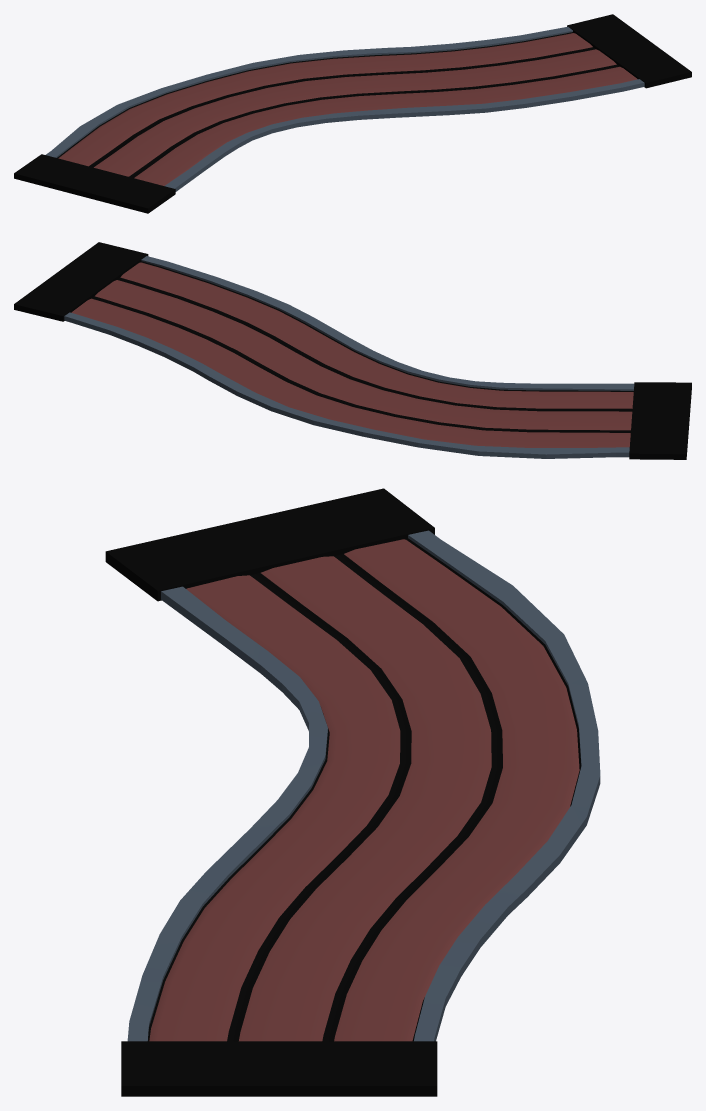
The model's file is Medium_Bridge_GEO.fbx.
The picture shows the model from 3 angles, top to bottom: view 1: azimuth 30°, elevation 25°; view 2: azimuth 150°, elevation 25°; view 3: azimuth 270°, elevation 25°; orthographic projection. The views are drawn at different scales.
Visible parts, largest first — view 1: Bridge_Medium; view 2: Bridge_Medium; view 3: Bridge_Medium.
Part boxes in pixels (x1=…): Bridge_Medium: x1=14, y1=14, x2=691, y2=213; Bridge_Medium: x1=14, y1=242, x2=691, y2=459; Bridge_Medium: x1=105, y1=488, x2=600, y2=1096.
Size of the model in its own units: 5473 by 59.94 by 1915.
